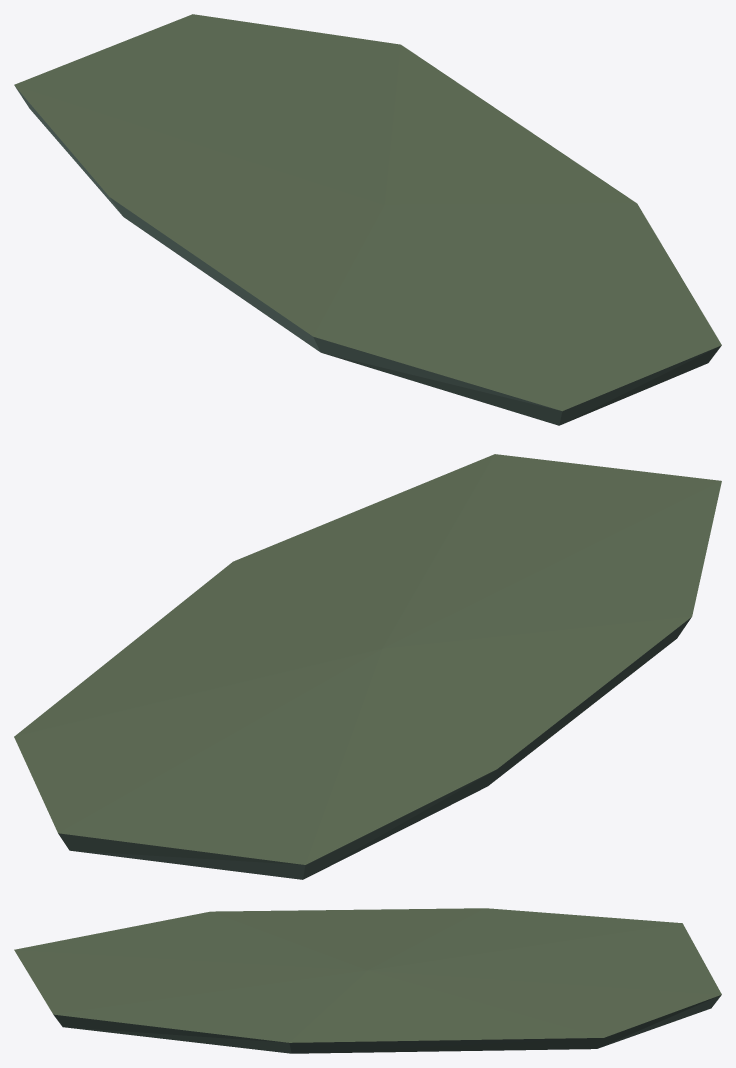
Rendered from distant-bank.obj.
3 renders of one model, top to bottom at view 1: azimuth 30°, elevation 25°; view 2: azimuth 150°, elevation 25°; view 3: azimuth 270°, elevation 25°, orthographic. The views are drawn at different scales.
Bounding box in the file's own units: 8.1 × 0.54 × 18.
